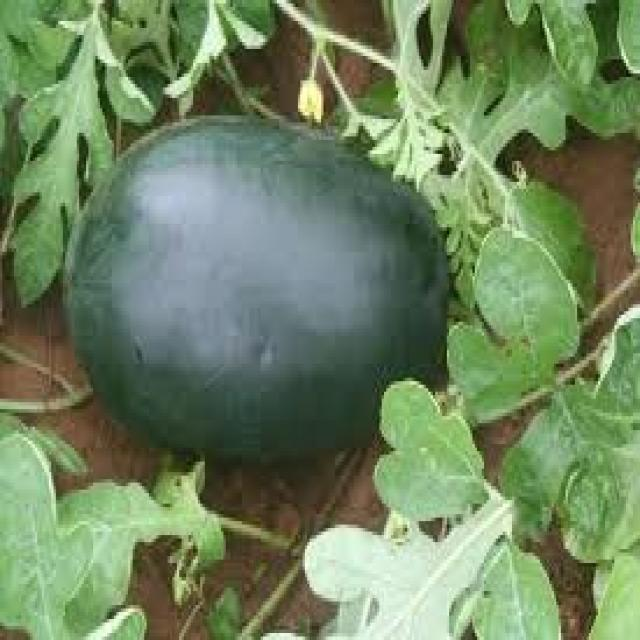Watermelon: (70, 113, 458, 474)
